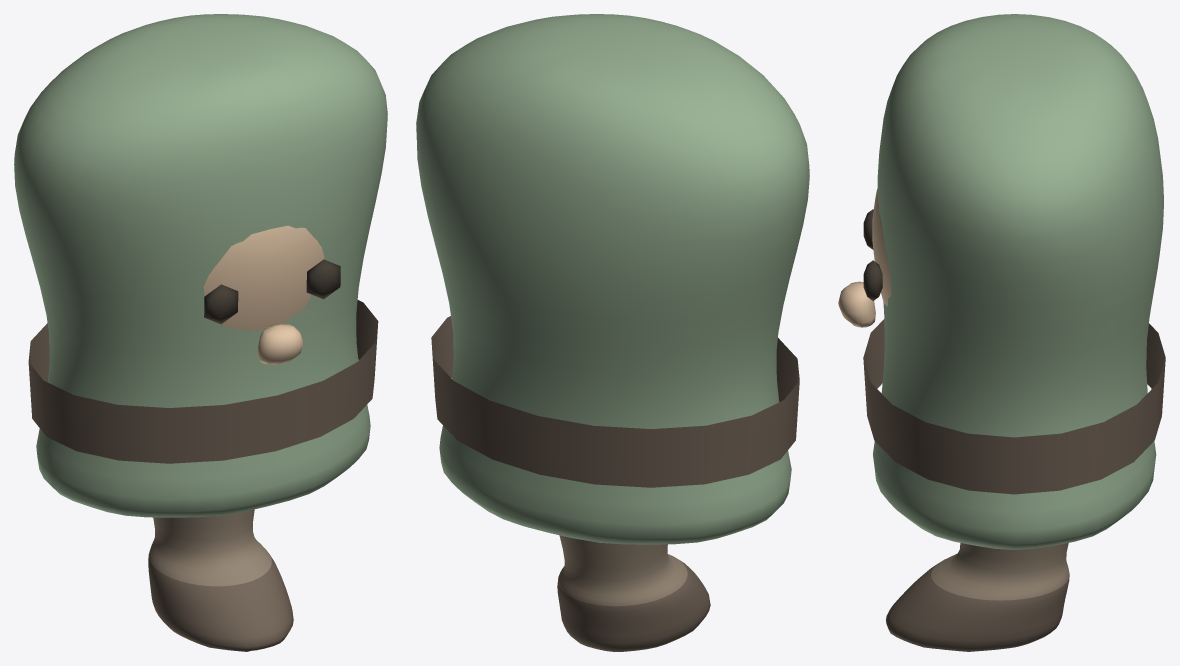
File: human.glb
3 views of the same model, side by side, from view 1: azimuth 30°, elevation 25°; view 2: azimuth 150°, elevation 25°; view 3: azimuth 270°, elevation 25° (orthographic). The views are drawn at different scales.
Visible parts, largest first — view 1: Torso, Belt, Leg, Head, Nose, EyeR, EyeL; view 2: Torso, Belt, Leg; view 3: Torso, Belt, Leg, Nose, Head, EyeR.
Boxes of the visible parts, x1,y1,x2,y2 form: Torso: (14,14,387,517); Belt: (28,300,378,463); Leg: (148,509,293,651); Head: (203,225,324,331); Nose: (257,323,303,364); EyeR: (306,259,340,299); EyeL: (204,284,238,324); Torso: (416,14,809,544); Belt: (431,316,799,487); Leg: (557,535,710,651); Torso: (873,14,1163,549); Belt: (863,319,1165,494); Leg: (886,543,1069,651); Nose: (838,281,875,327); Head: (872,188,891,306); EyeR: (863,260,882,300).
Bounding box in the file's own units: 0.5102 × 0.7966 × 0.4055.
